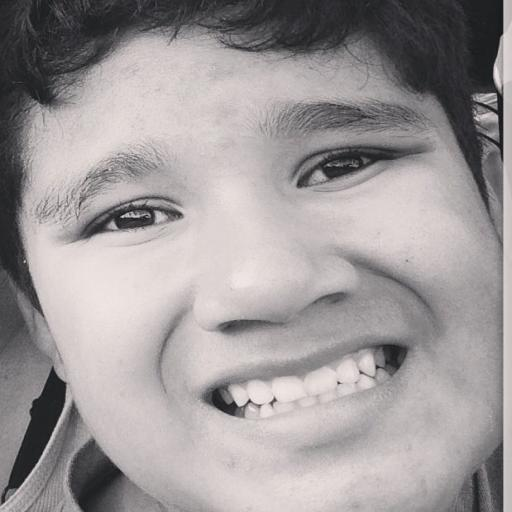Autism: (40, 16, 512, 511)
